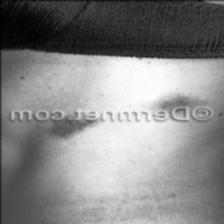Toxin: (50, 112, 98, 141), (147, 92, 202, 116)
